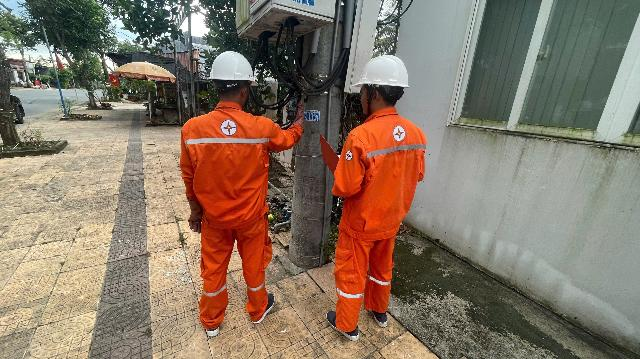gloves: (180, 195, 206, 232), (290, 103, 311, 133)
helmet: (351, 52, 410, 91), (209, 53, 261, 89)
shoes: (321, 306, 360, 345), (249, 288, 277, 323), (362, 302, 388, 328)
